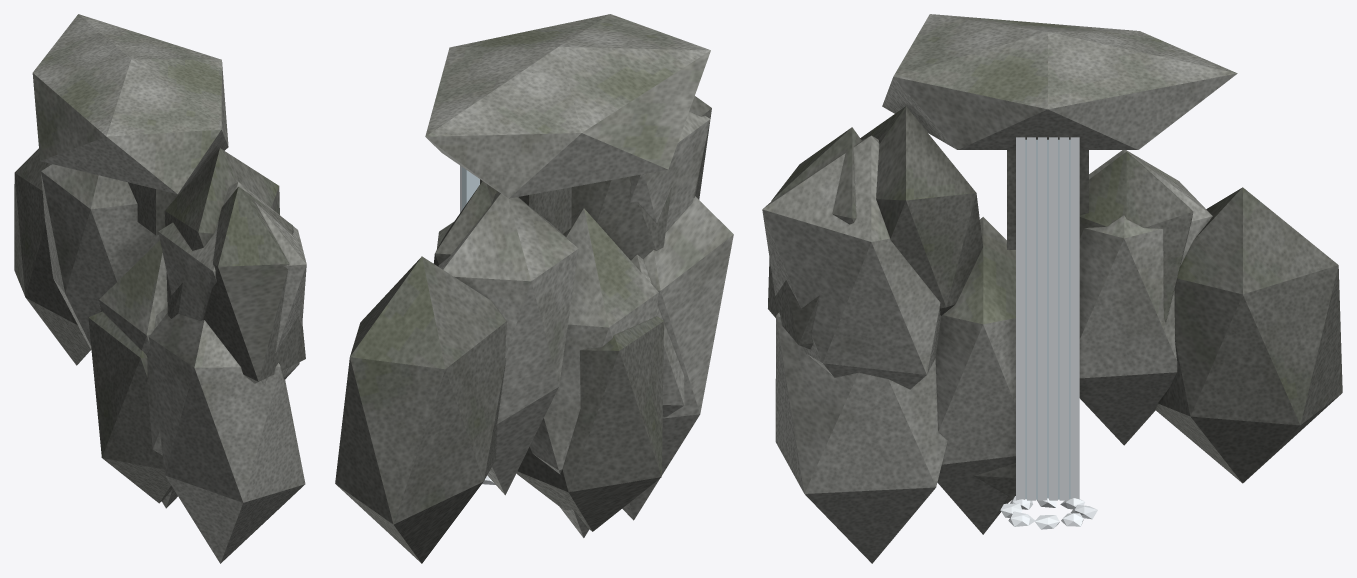
Rendered from vattenfall_tex.glb.
The picture shows the model from 3 angles, left to right: view 1: azimuth 30°, elevation 25°; view 2: azimuth 150°, elevation 25°; view 3: azimuth 270°, elevation 25°; orthographic projection. The views are drawn at different scales.
Parts seen in each view (by area): view 1: vattenfall; view 2: vattenfall; view 3: vattenfall.
Part boxes in pixels (x1,y1,x2,y2): vattenfall: (14, 14, 306, 563); vattenfall: (335, 14, 733, 563); vattenfall: (762, 14, 1342, 563).
Bounding box in the file's own units: 29.5 × 63.66 × 63.84.
4 materials, 2 textured.
